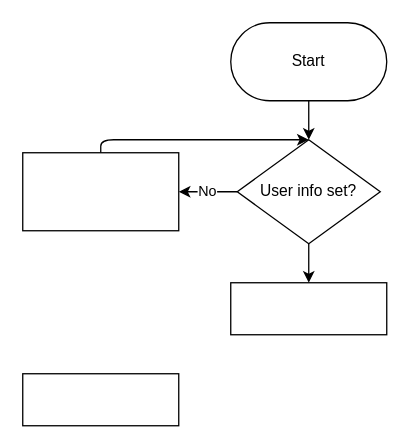
This 410x448 diagram has some shape labels left out. Each missing label, with the centre of its shape:
"Display login form" belongs at (x=100, y=191).
"Display main layout" belongs at (x=308, y=308).
